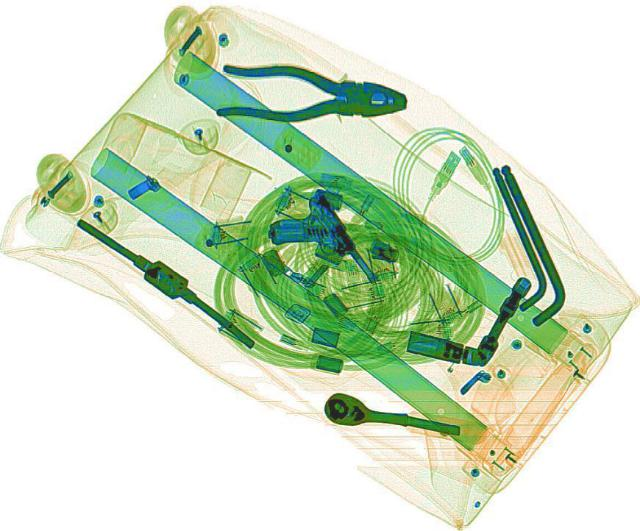Gun: (252, 188, 382, 305)
Pliers: (214, 59, 408, 127)
